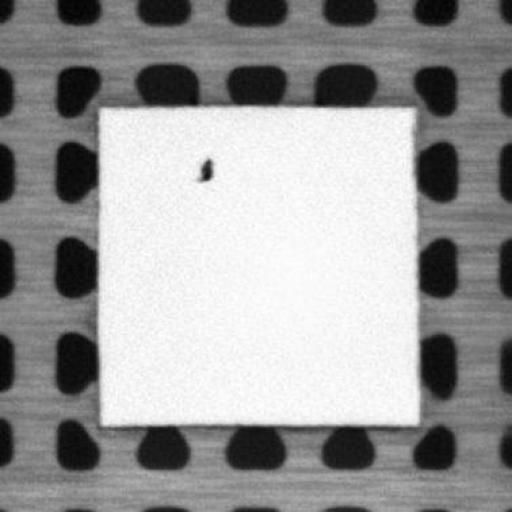DIE_INK: (195, 153, 215, 182)
